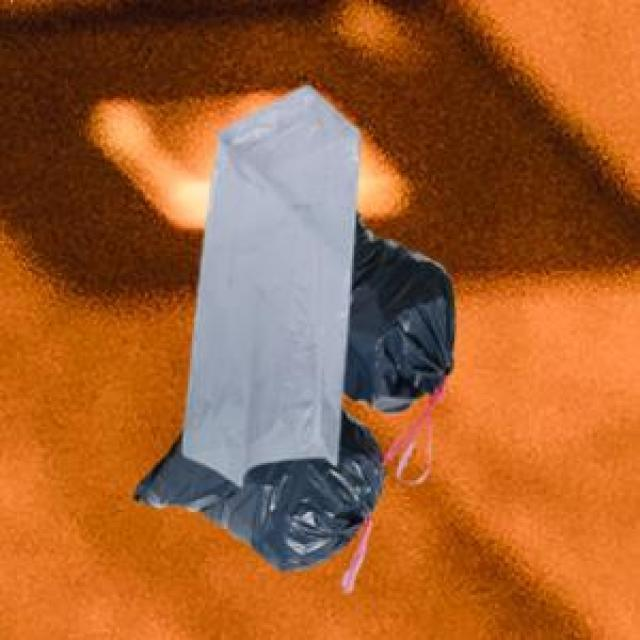miscellaneous trash: (130, 207, 448, 589)
